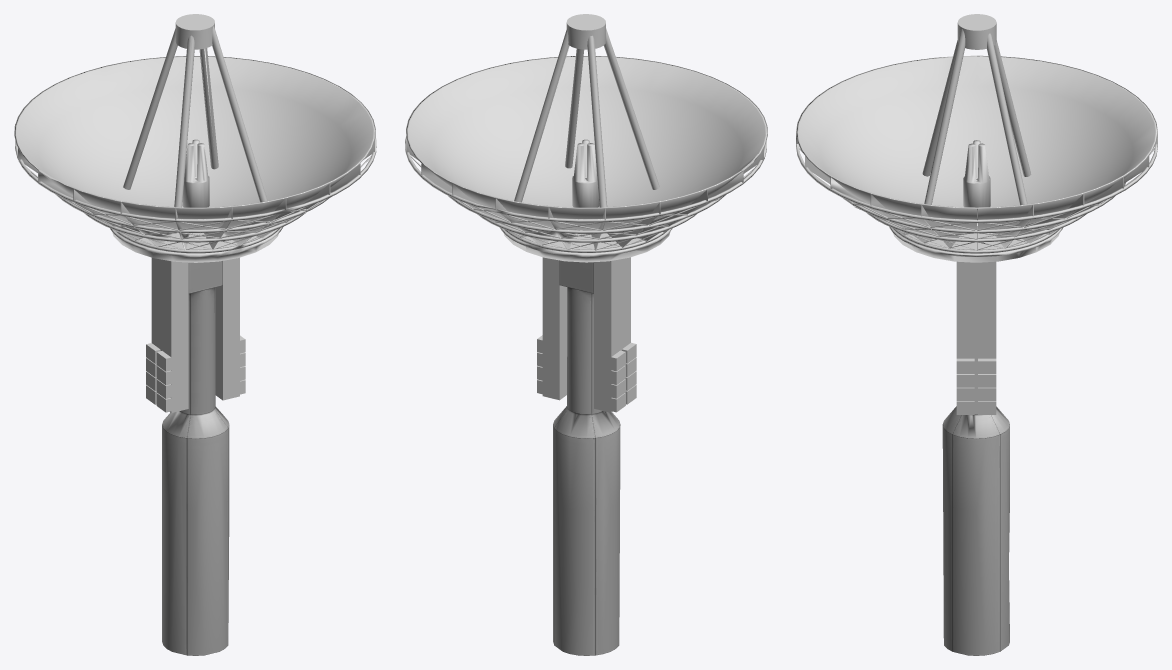
Rendered from comms-dish.glb.
3 renders of one model, left to right at view 1: azimuth 30°, elevation 25°; view 2: azimuth 150°, elevation 25°; view 3: azimuth 270°, elevation 25°, orthographic.
Parts seen in each view (by area): view 1: tall_dish_ (×2); view 2: tall_dish_ (×2); view 3: tall_dish_ (×2).
Part boxes in pixels (box(x1,y1,x2,y2)): tall_dish_ (×2): box(14, 14, 376, 655); tall_dish_ (×2): box(405, 14, 767, 655); tall_dish_ (×2): box(796, 14, 1157, 655).
Size of the model in its own units: 3 by 5.65 by 3.
Materials: 3 (1 with a texture image).
